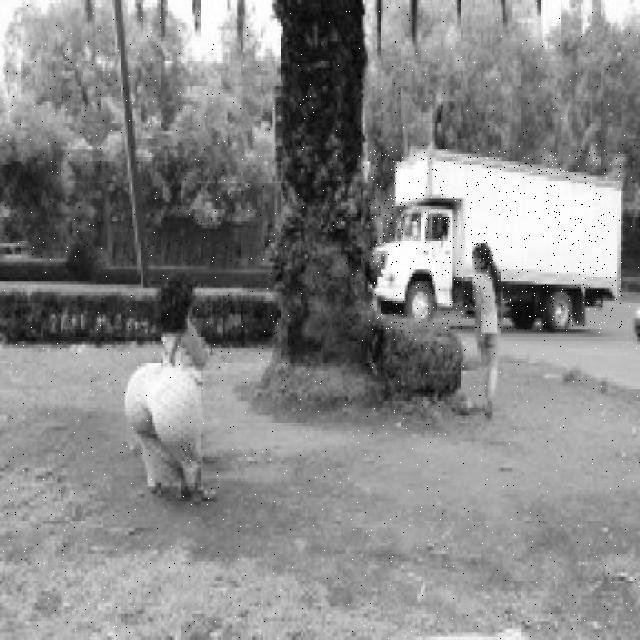Box Truck: (369, 150, 622, 331)
